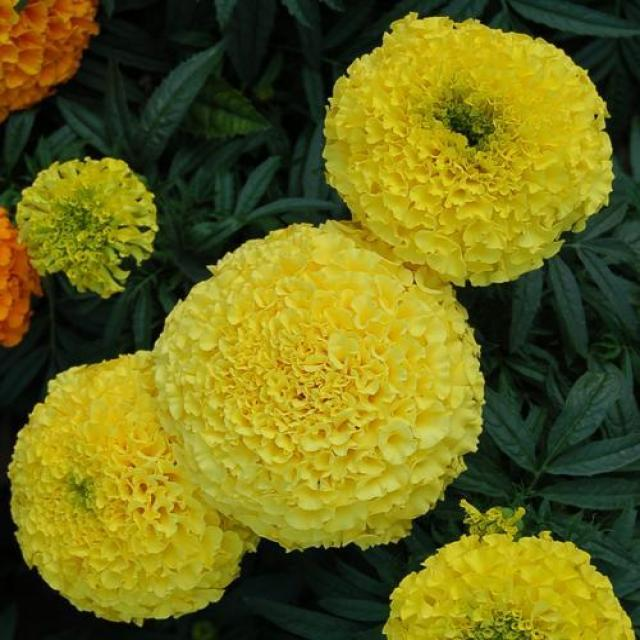marigold: (5, 123, 626, 615), (279, 9, 625, 301)
